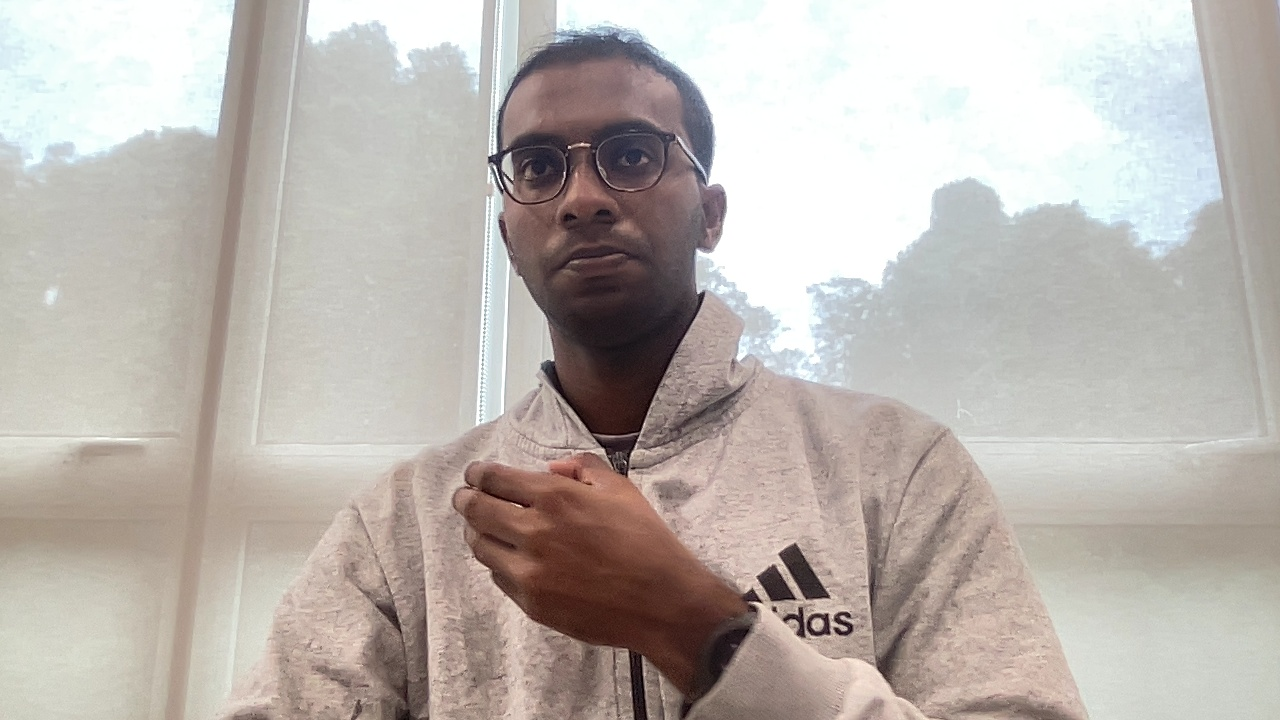drink: (450, 444, 695, 651)
